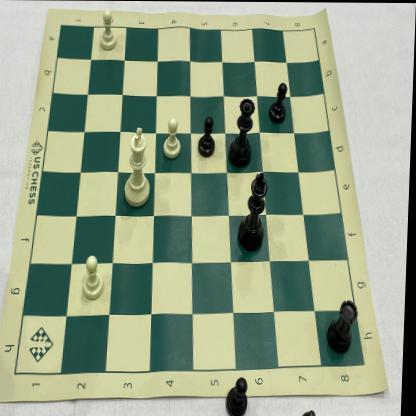black-king: (236, 170, 273, 255)
black-pawn: (196, 114, 219, 162), (268, 79, 290, 124)
black-queen: (229, 89, 257, 171)
black-rook: (324, 296, 361, 357)
white-king: (120, 124, 155, 211)
white-pawn: (79, 252, 110, 303), (96, 9, 121, 55), (161, 113, 184, 161)
